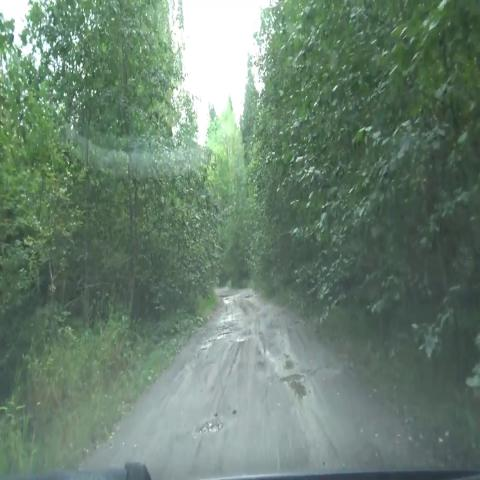pothole: (278, 346, 318, 412), (188, 400, 236, 444), (192, 329, 255, 360), (219, 287, 236, 312), (243, 288, 258, 308)
